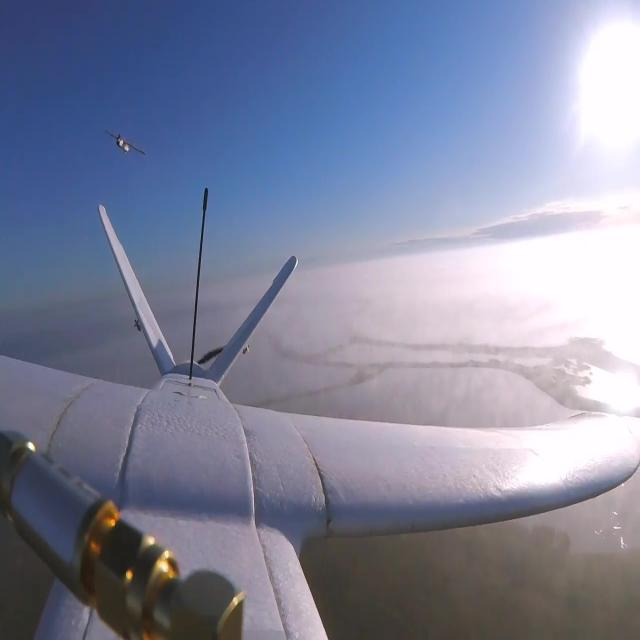iha: (36, 126, 83, 160)
